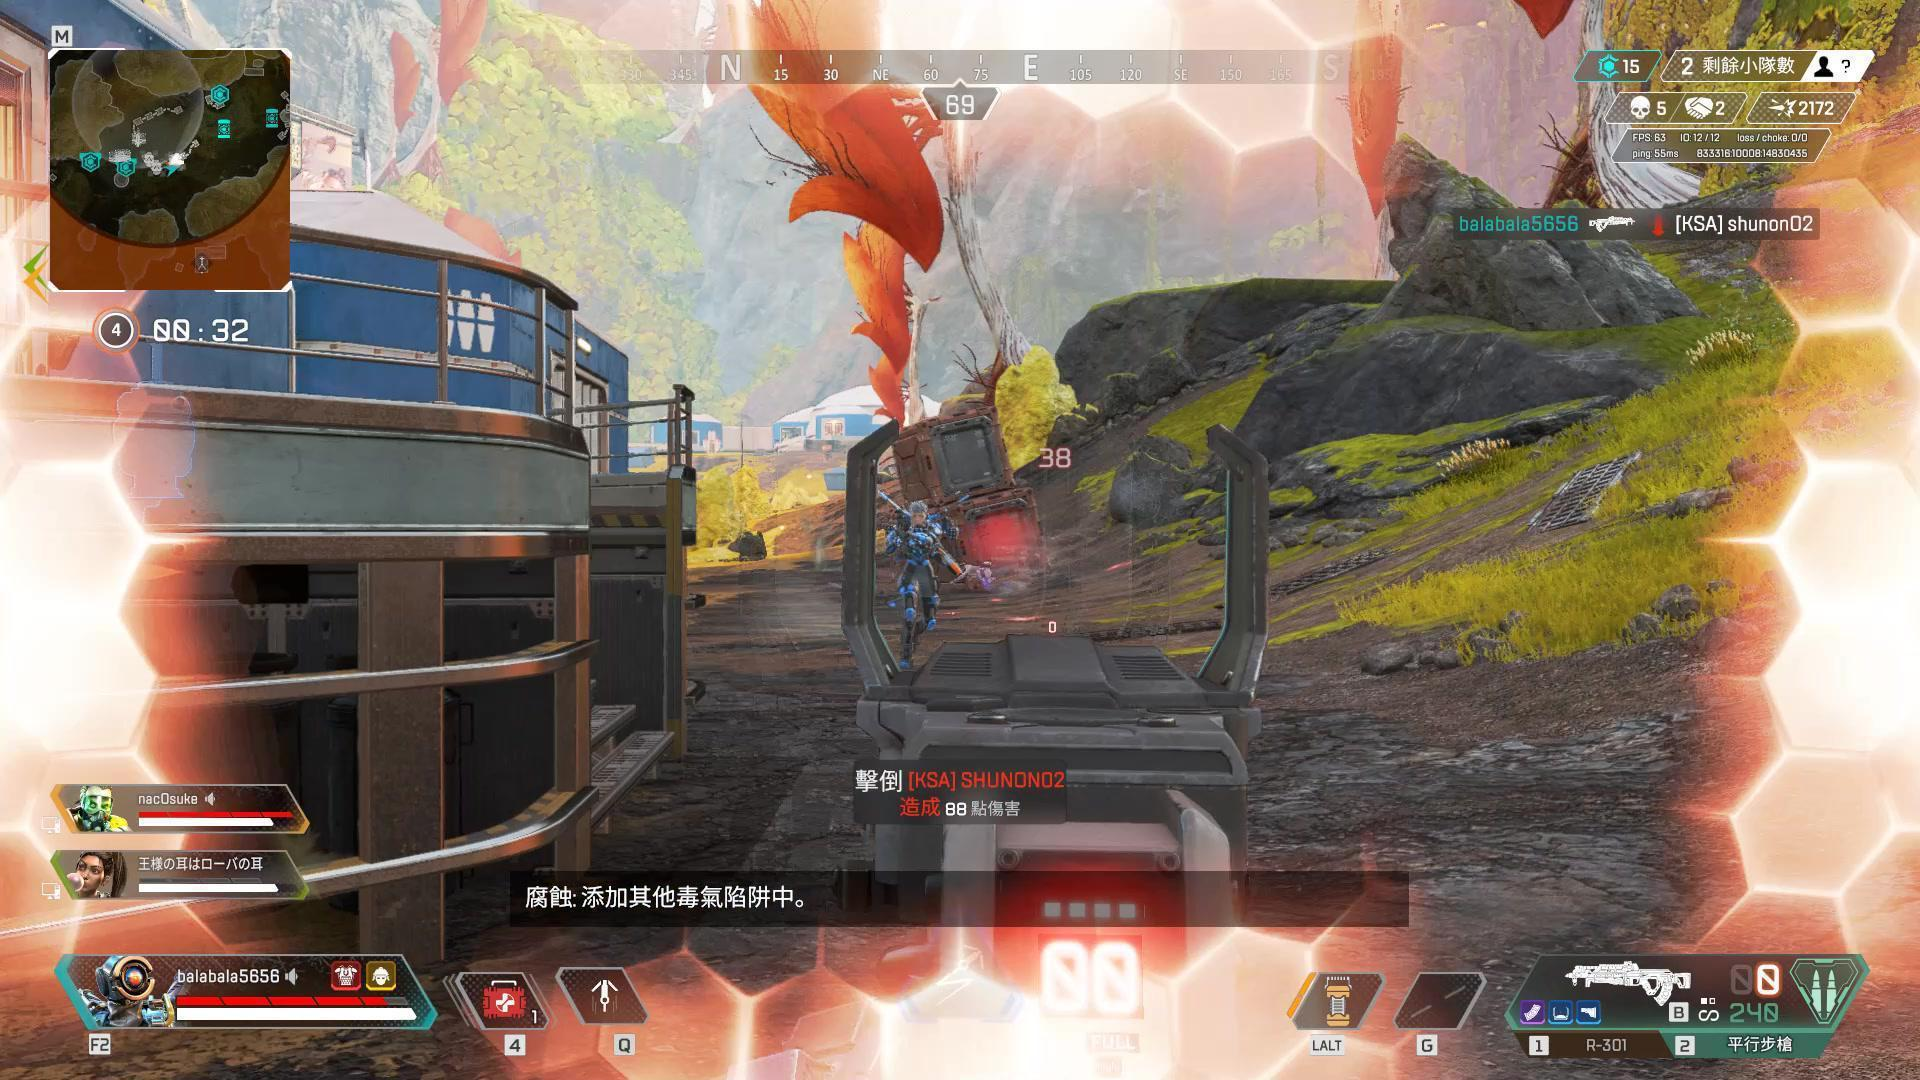avatar: (886, 498, 951, 664)
